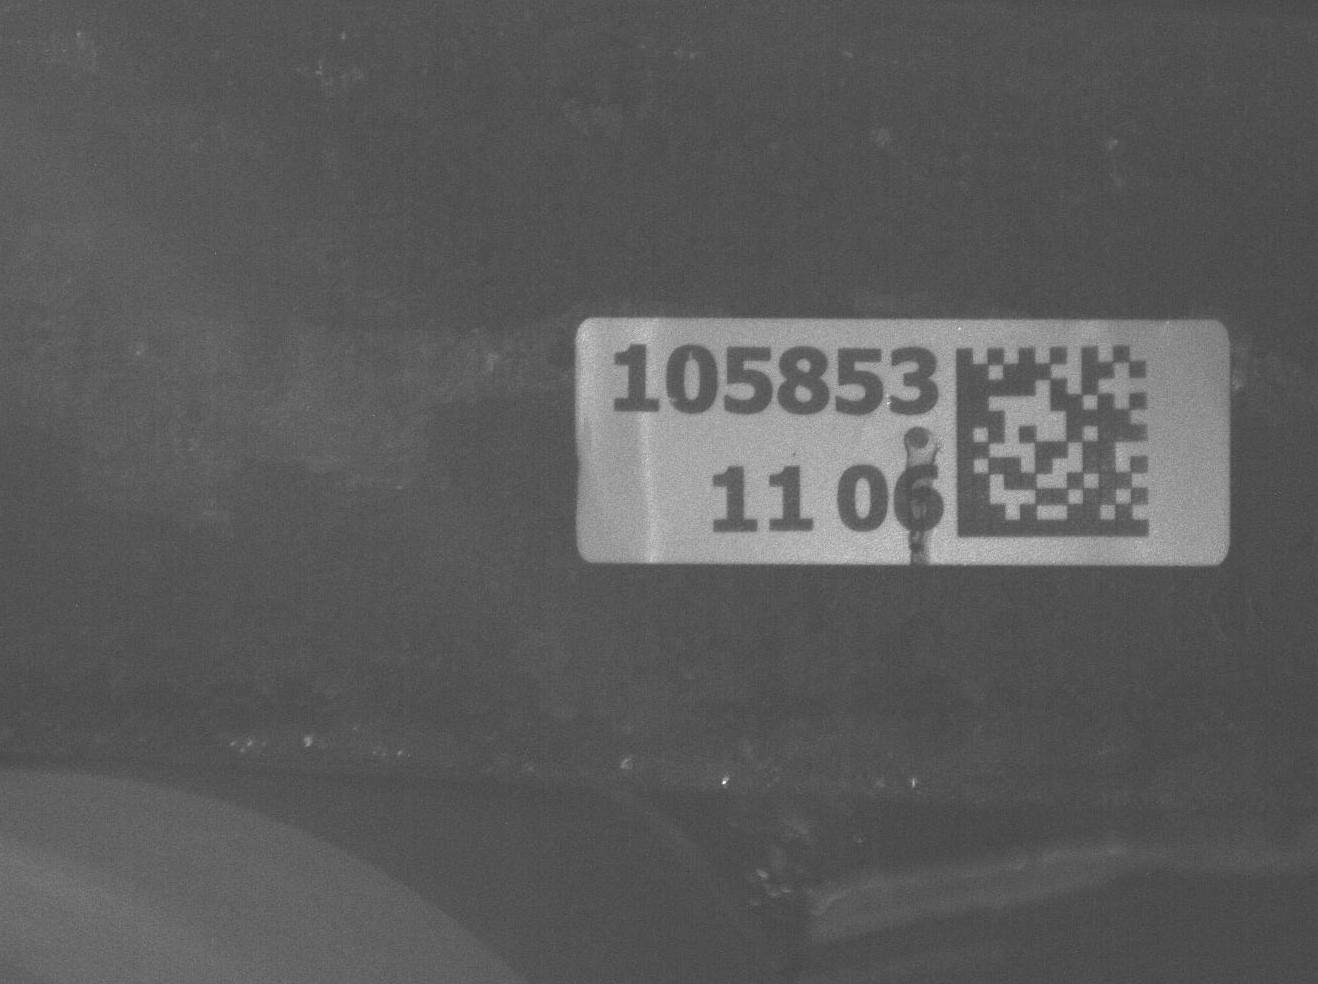data matrix: (946, 331, 1161, 548)
